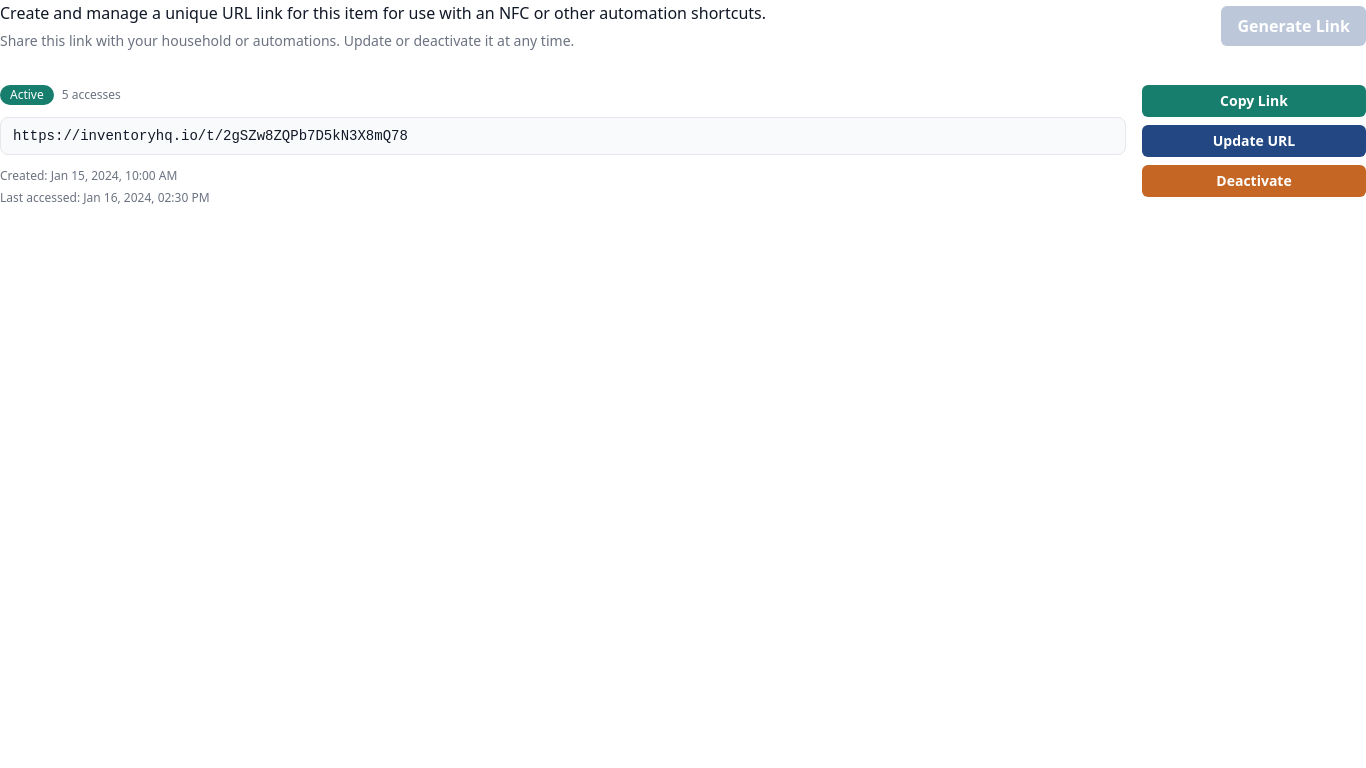
Scenario: NFCUrlManager Component › Rotate URL (T046) › should cancel rotation when clicking Cancel
Check: the text "Active" is shown, box [0, 85, 54, 105]
Step 1. Click the button "Update URL" → (1254, 141), box [1142, 125, 1365, 157]
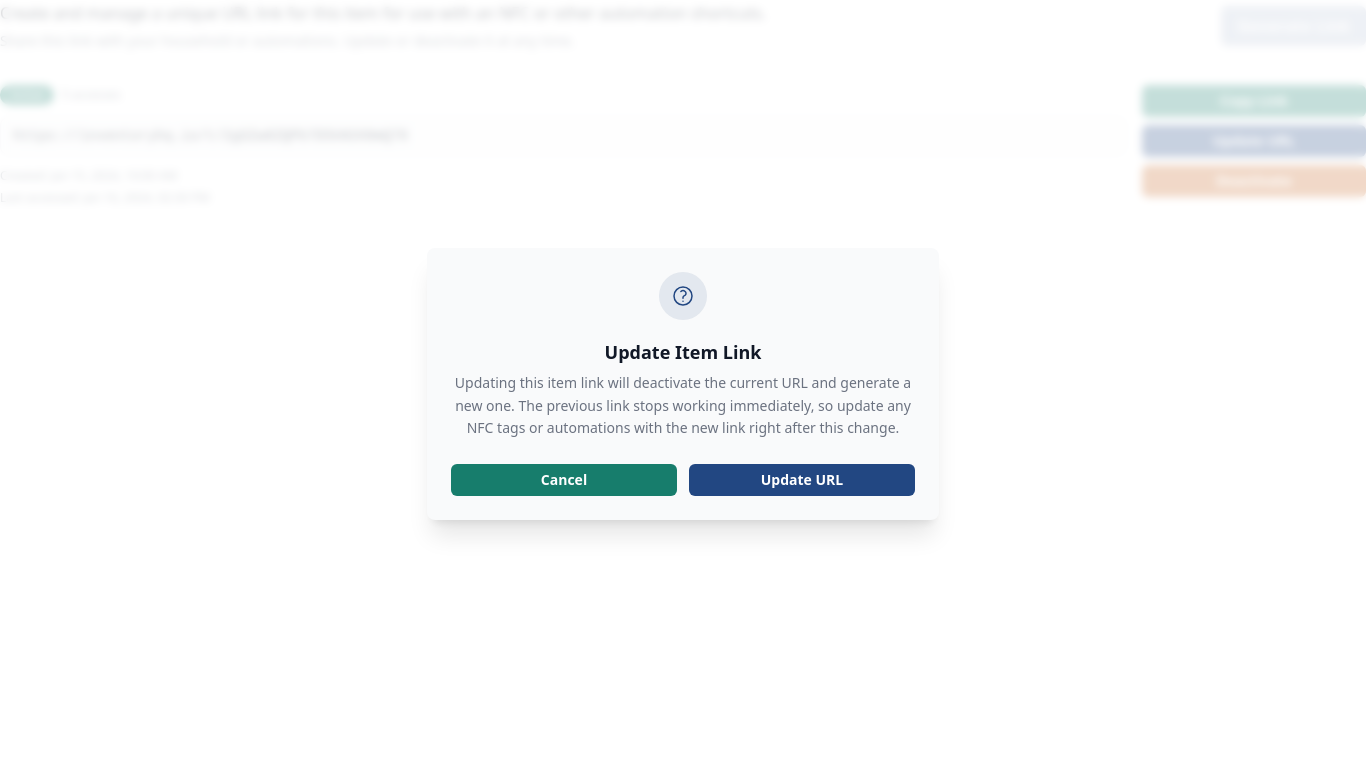
Check: the heading "Update Item Link" is shown, box [605, 340, 762, 364]
Step 2. Click the button "Cancel" → (564, 480), box [451, 464, 677, 496]
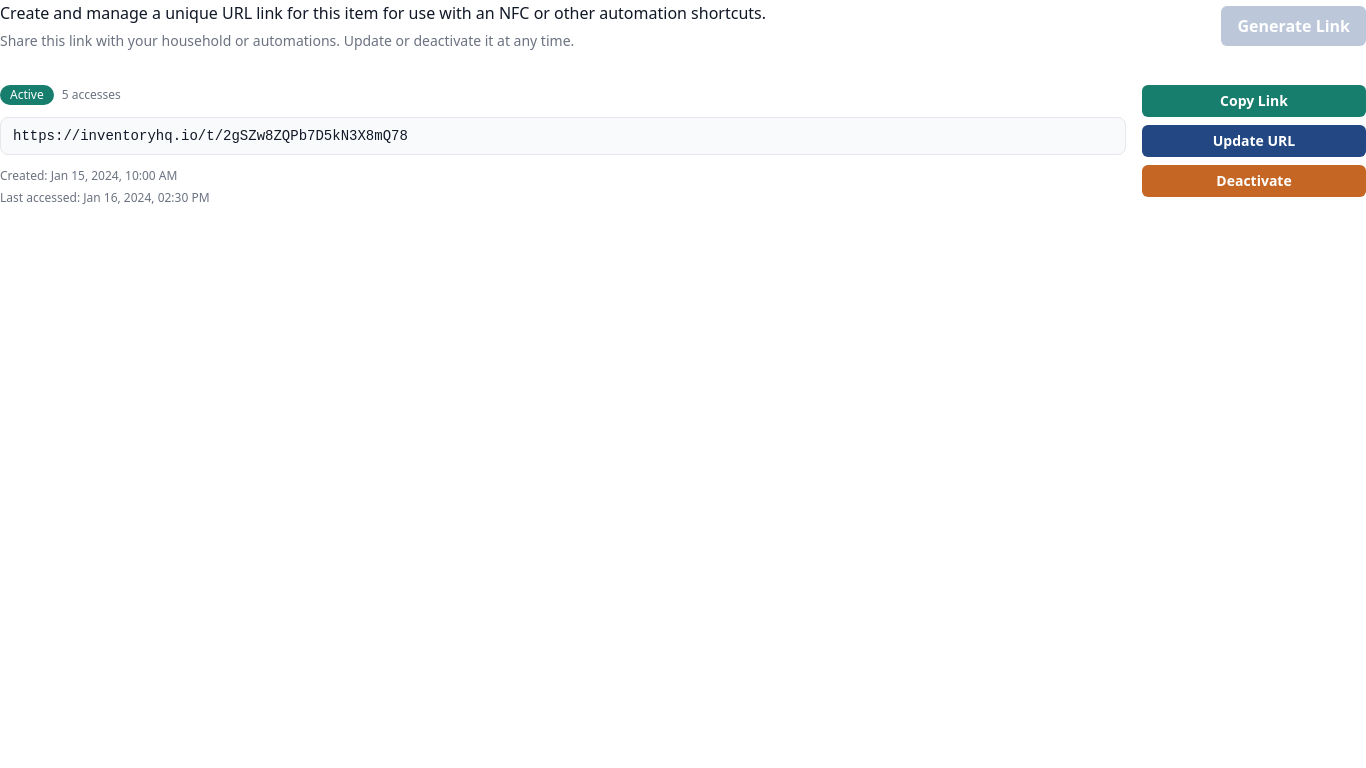
Check: the heading "Update Item Link" is gone
